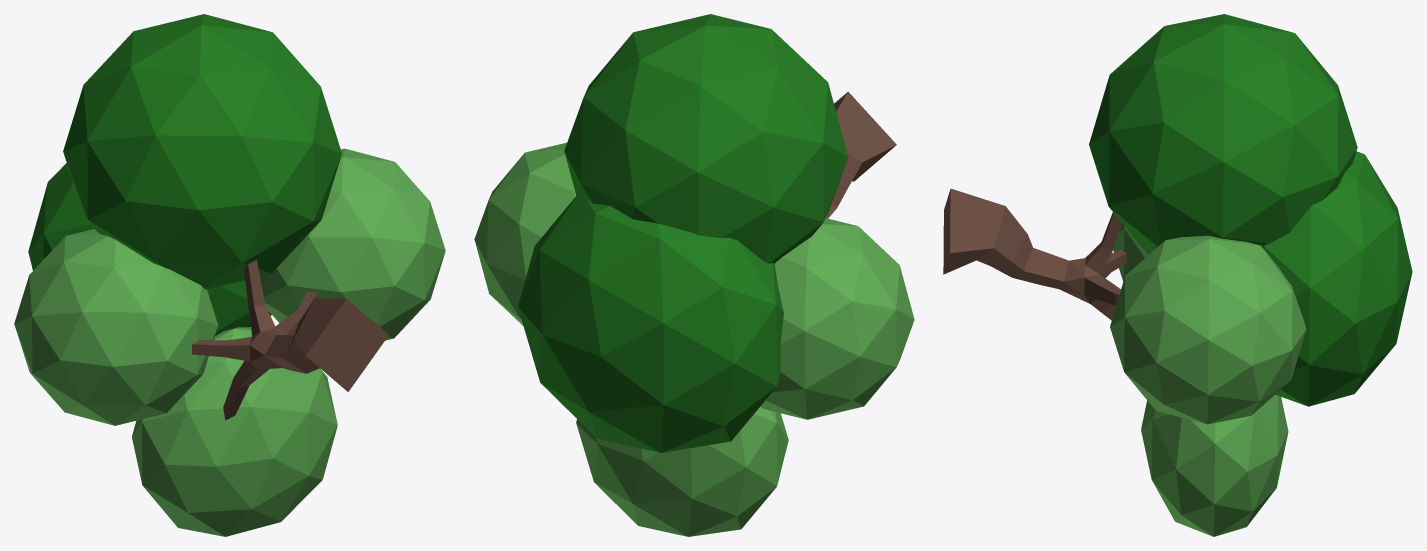
File: ENVI_pohon_Bantet.fbx
3 views of the same model, side by side, from view 1: azimuth 30°, elevation 25°; view 2: azimuth 150°, elevation 25°; view 3: azimuth 270°, elevation 25° (orthographic). The views are drawn at different scales.
Visible parts, largest first — view 1: pohon Bantet; view 2: pohon Bantet; view 3: pohon Bantet.
Boxes of the visible parts, <box> form: pohon Bantet: <box>14,14,445,536</box>; pohon Bantet: <box>474,14,914,536</box>; pohon Bantet: <box>943,14,1412,536</box>.
Bounding box in the file's own units: 967 × 1192 × 1031.
